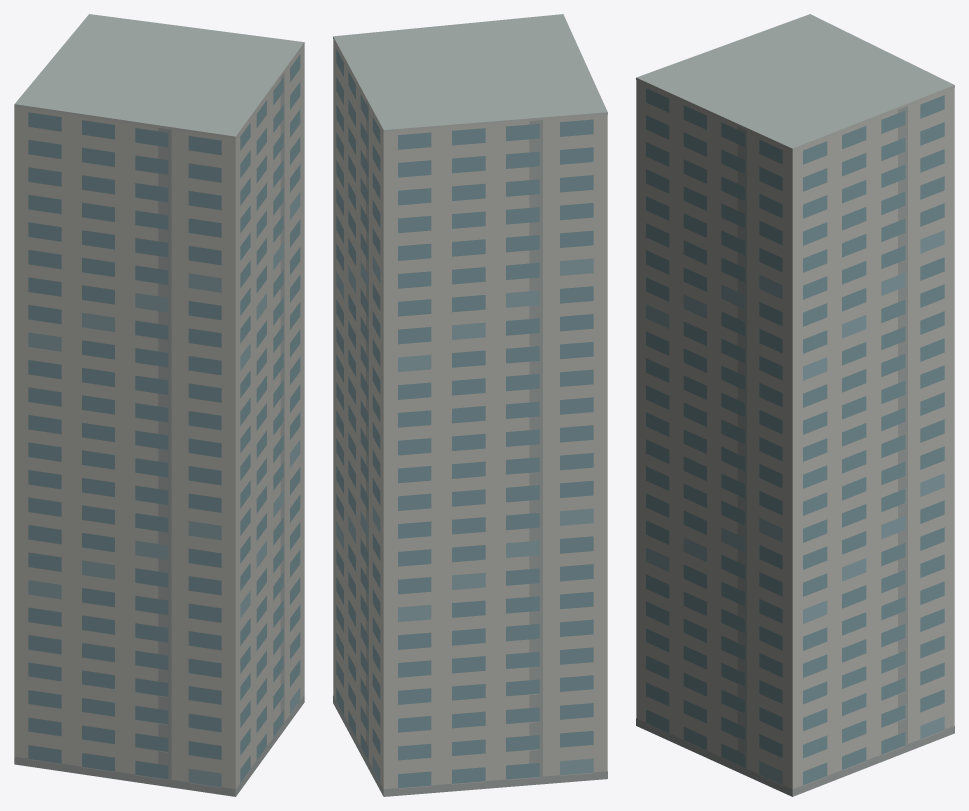
File: residential-6d49582b-464e-4887-91f9-3456505881a8.glb
The picture shows the model from 3 angles, left to right: view 1: azimuth 30°, elevation 25°; view 2: azimuth 150°, elevation 25°; view 3: azimuth 270°, elevation 25°; orthographic projection. The views are drawn at different scales.
Parts seen in each view (by area): view 1: residential-6d49582b-464e-4887-91f9-3456505881a8.tmp; view 2: residential-6d49582b-464e-4887-91f9-3456505881a8.tmp; view 3: residential-6d49582b-464e-4887-91f9-3456505881a8.tmp.
Part boxes in pixels (x1=…): residential-6d49582b-464e-4887-91f9-3456505881a8.tmp: x1=14, y1=14, x2=304, y2=796; residential-6d49582b-464e-4887-91f9-3456505881a8.tmp: x1=333, y1=14, x2=607, y2=796; residential-6d49582b-464e-4887-91f9-3456505881a8.tmp: x1=636, y1=14, x2=954, y2=796.
Bounding box in the file's own units: 28.06 × 63 × 28.07.
